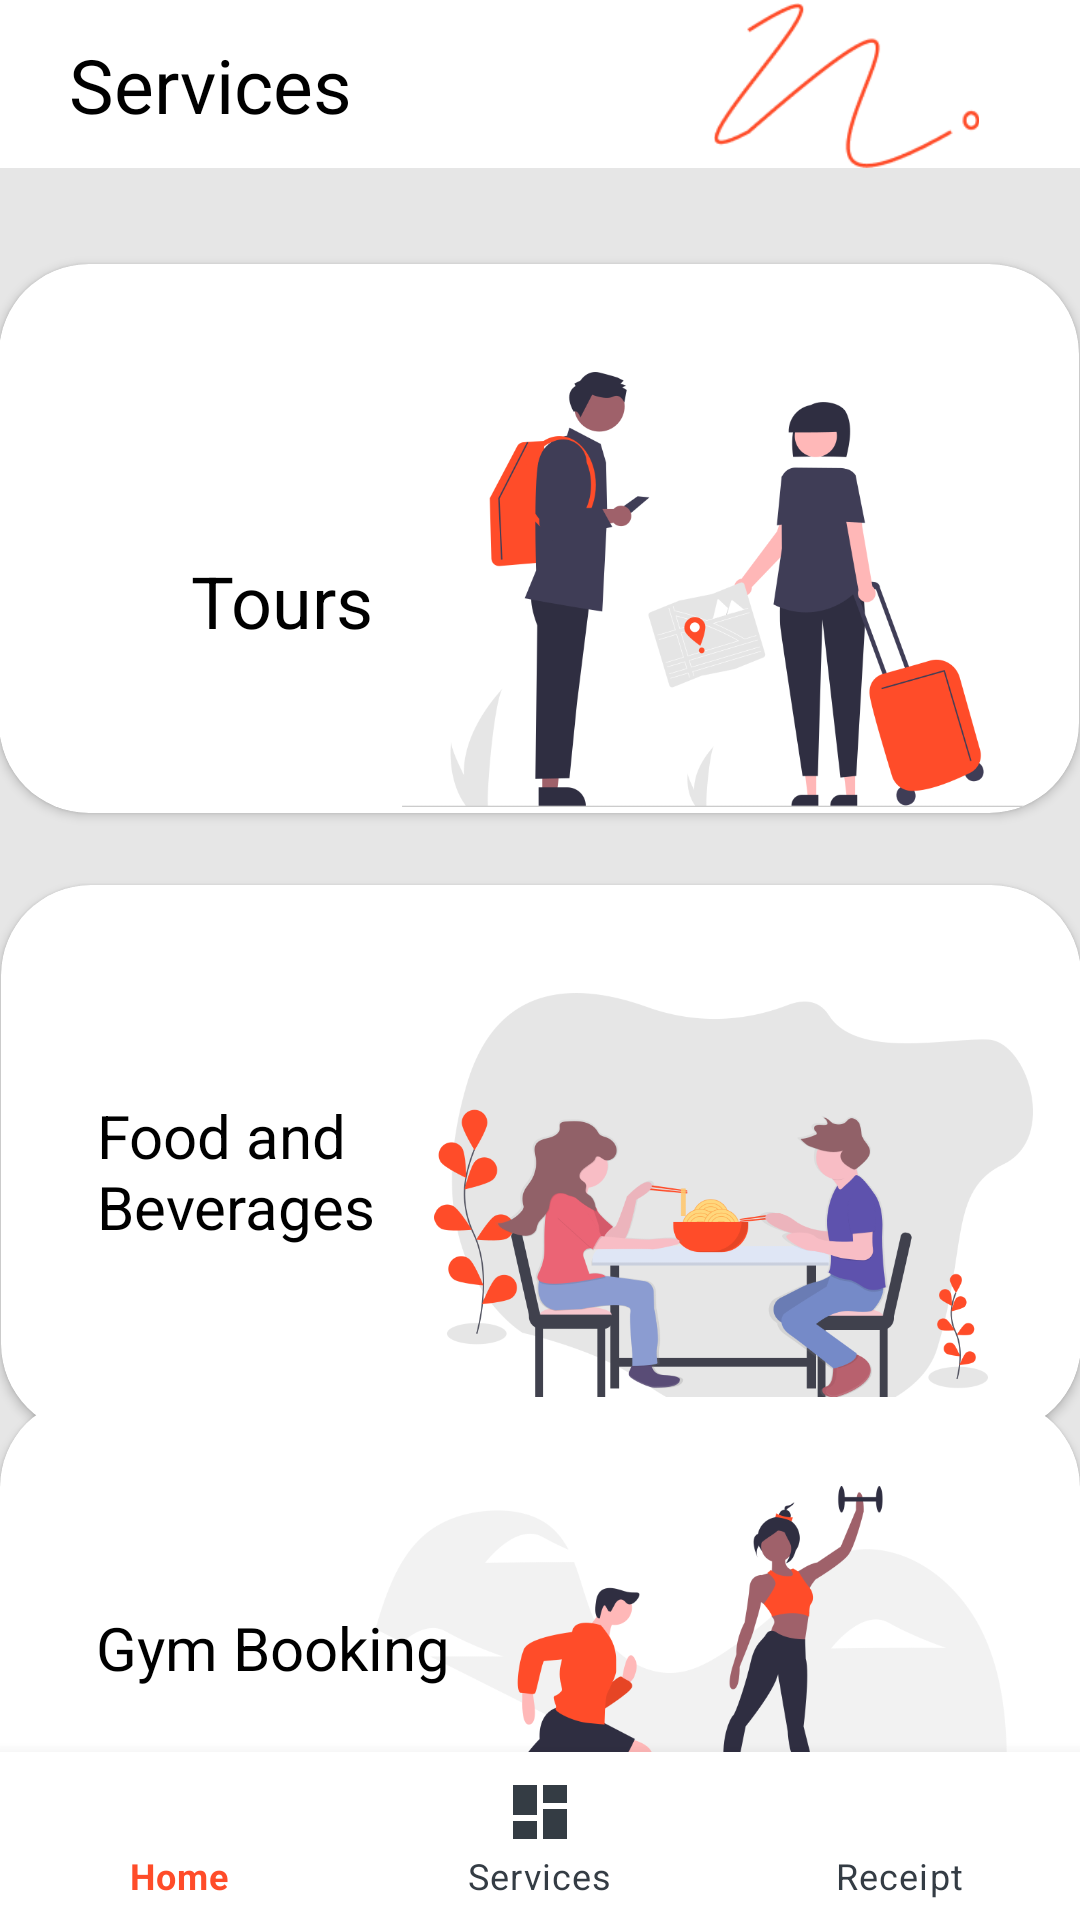

Point at icon controls on the screen. Image size 1080*1920, points as [x,y].
curvy: [846,85]
